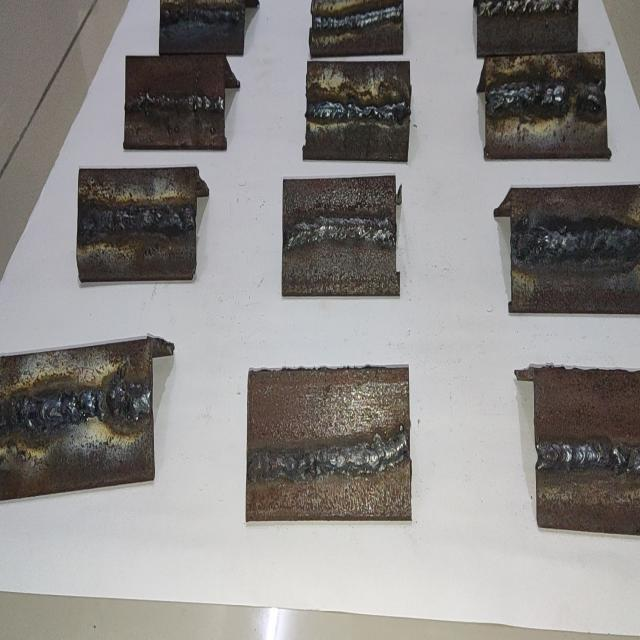Defect: (19, 389, 154, 430), (512, 215, 550, 269), (588, 217, 620, 267), (558, 76, 592, 120), (202, 87, 224, 115)
Welding Line: (0, 383, 150, 437), (247, 432, 409, 479), (510, 225, 639, 260), (284, 215, 394, 253), (486, 84, 606, 116), (78, 201, 194, 234), (541, 440, 640, 470), (307, 95, 410, 123), (312, 3, 402, 34), (126, 90, 224, 110), (480, 0, 572, 19), (162, 8, 244, 26)
Workpiece: (245, 362, 415, 526), (0, 336, 155, 508), (531, 365, 640, 534), (510, 184, 640, 319), (74, 164, 201, 282), (279, 175, 401, 296), (482, 52, 609, 159), (303, 60, 413, 166), (125, 54, 226, 153), (476, 0, 577, 58), (309, 0, 407, 57), (159, 0, 247, 57)
